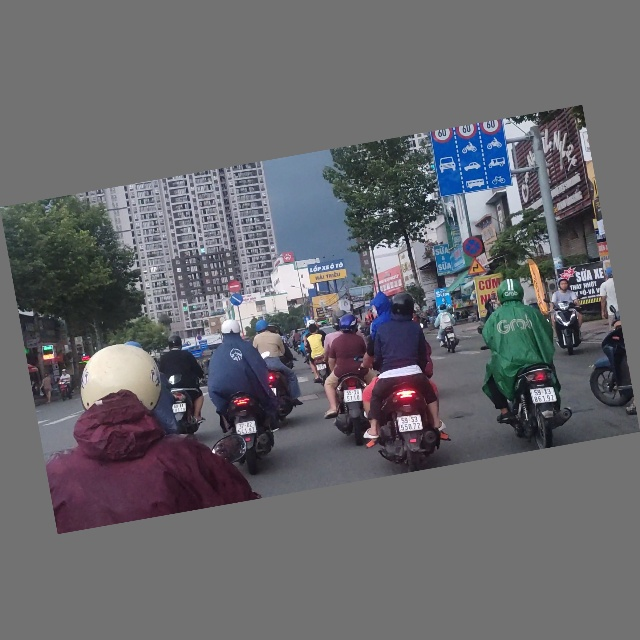I.434a: (364, 300, 371, 310)
P.102: (227, 280, 241, 295)
P.127*60: (455, 124, 479, 141), (480, 120, 503, 137), (432, 129, 454, 145)
P.130: (461, 235, 485, 259)
R.302a: (229, 293, 244, 307)
R.415a: (432, 135, 514, 199)
W.202b: (465, 256, 487, 276)
